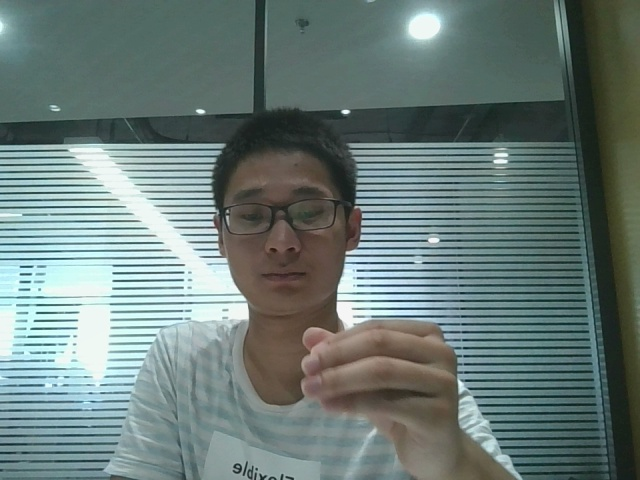seven: (290, 310, 471, 416)
